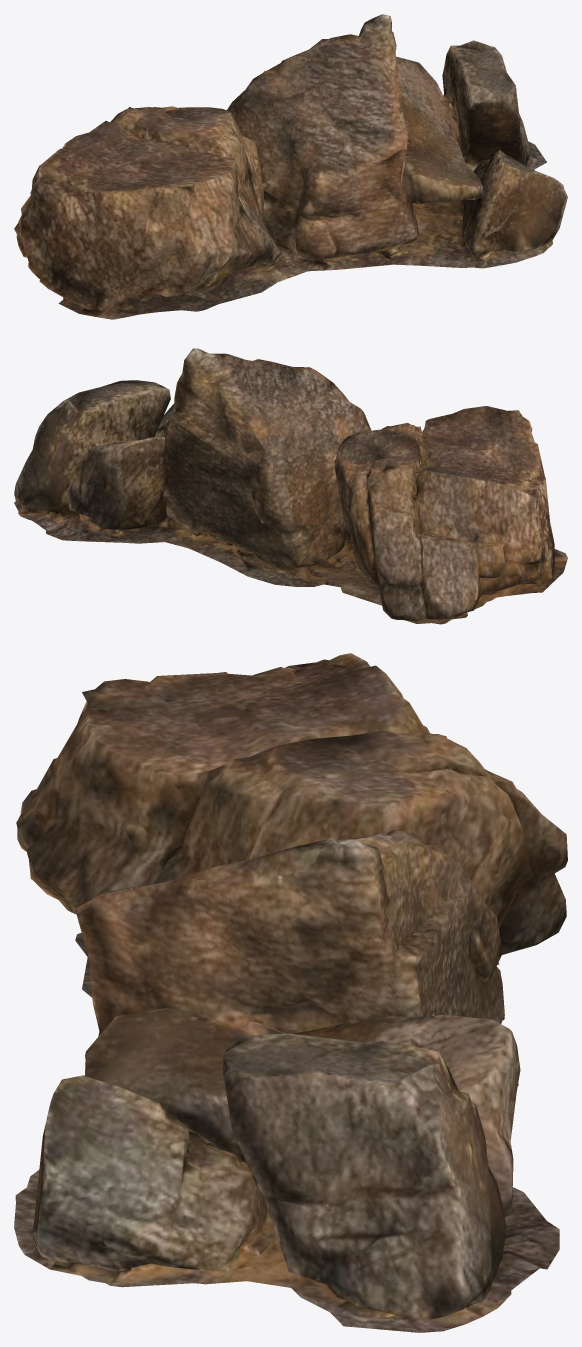
Rendered from nature_rock_t1_boulder.glb.
The picture shows the model from 3 angles, top to bottom: view 1: azimuth 30°, elevation 25°; view 2: azimuth 150°, elevation 25°; view 3: azimuth 270°, elevation 25°; orthographic projection. The views are drawn at different scales.
Parts seen in each view (by area): view 1: boulder_02; view 2: boulder_02; view 3: boulder_02.
Part boxes in pixels (box(x1,y1,x2,y2)): boulder_02: box(14, 14, 567, 319); boulder_02: box(14, 348, 567, 624); boulder_02: box(14, 653, 567, 1332).
Bounding box in the file's own units: 4.01 × 1.4 × 1.95.
Materials: 1 (1 with a texture image).
